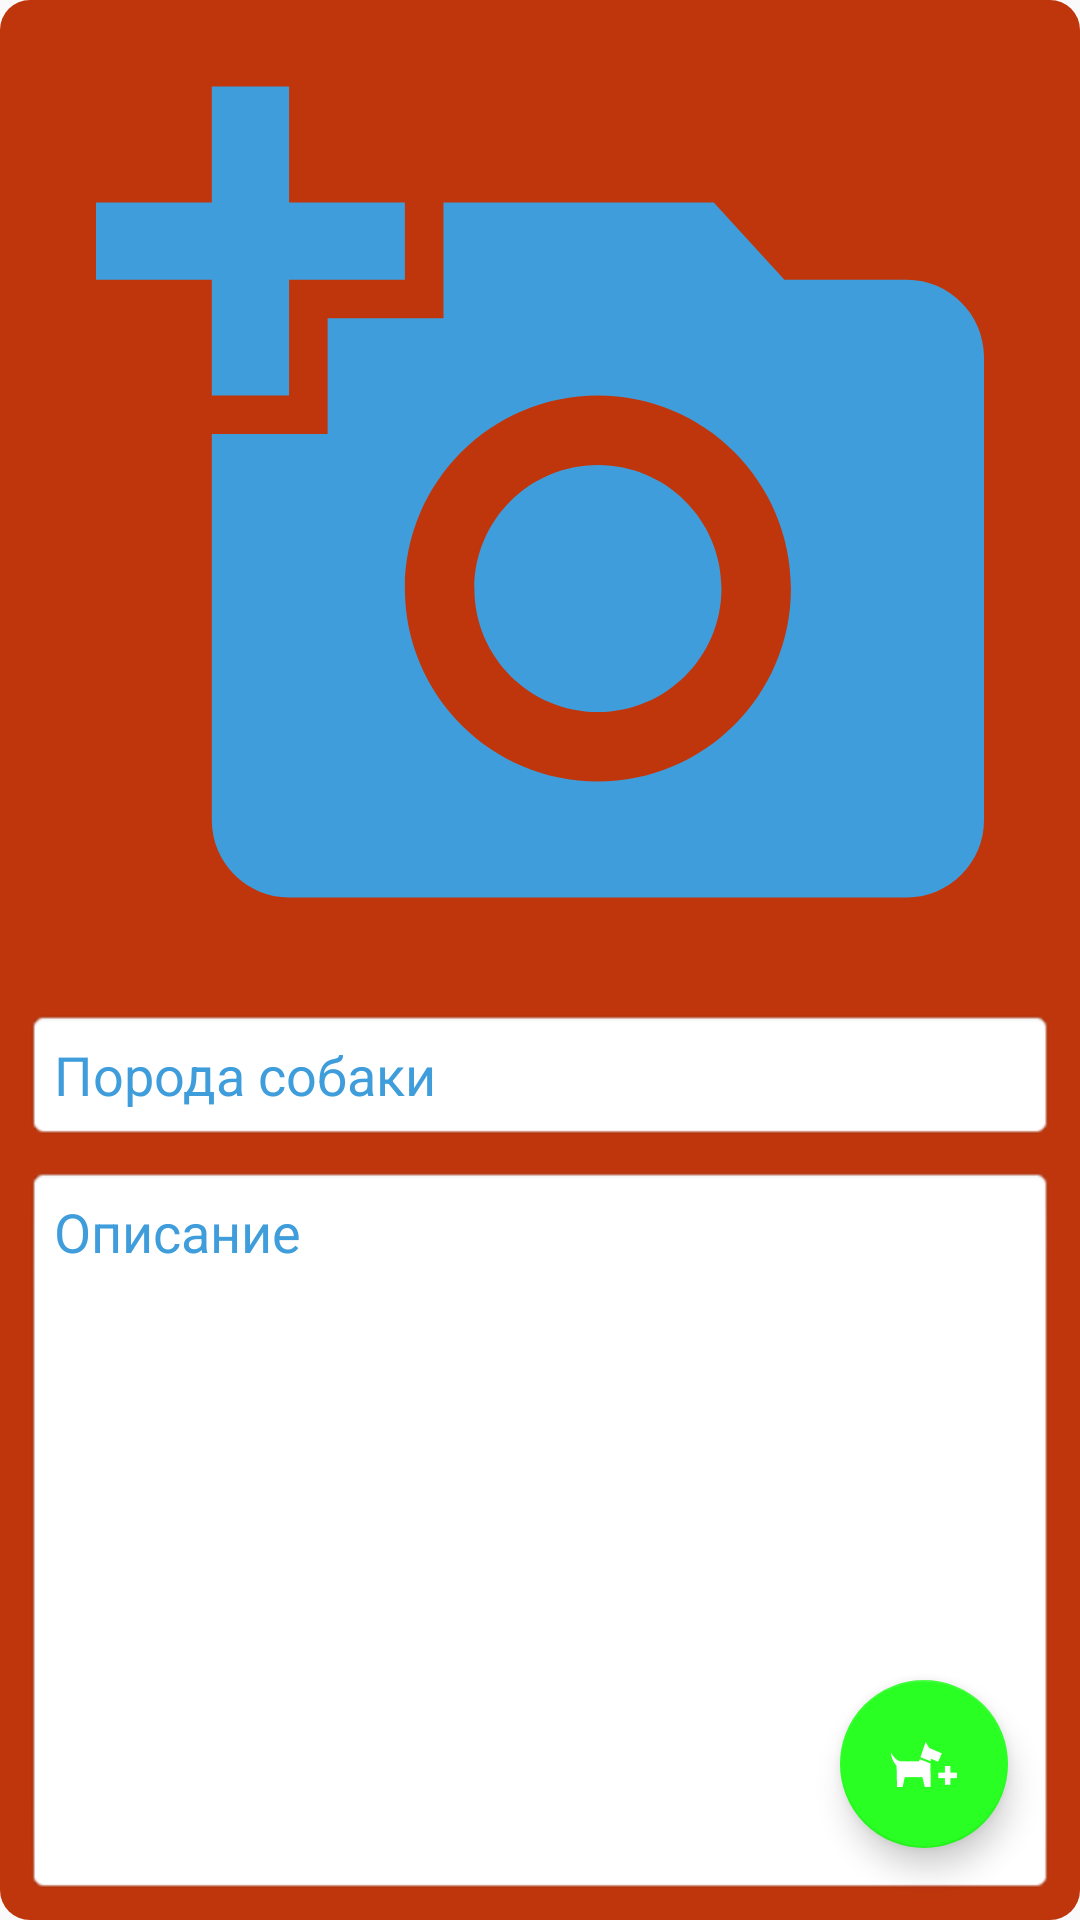

Icon click points for this 1080*1920 phone screenshot, format [x,y]:
add dog: [924,1764]
